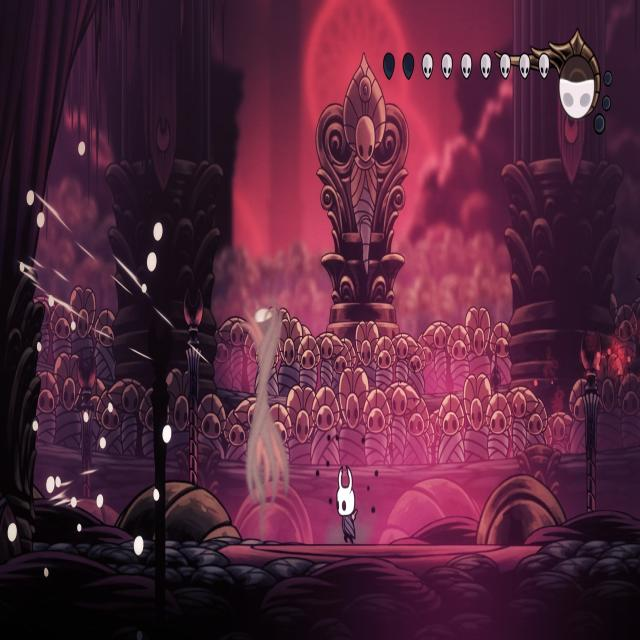Grimm: (244, 310, 292, 542)
Player: (332, 461, 359, 547)
